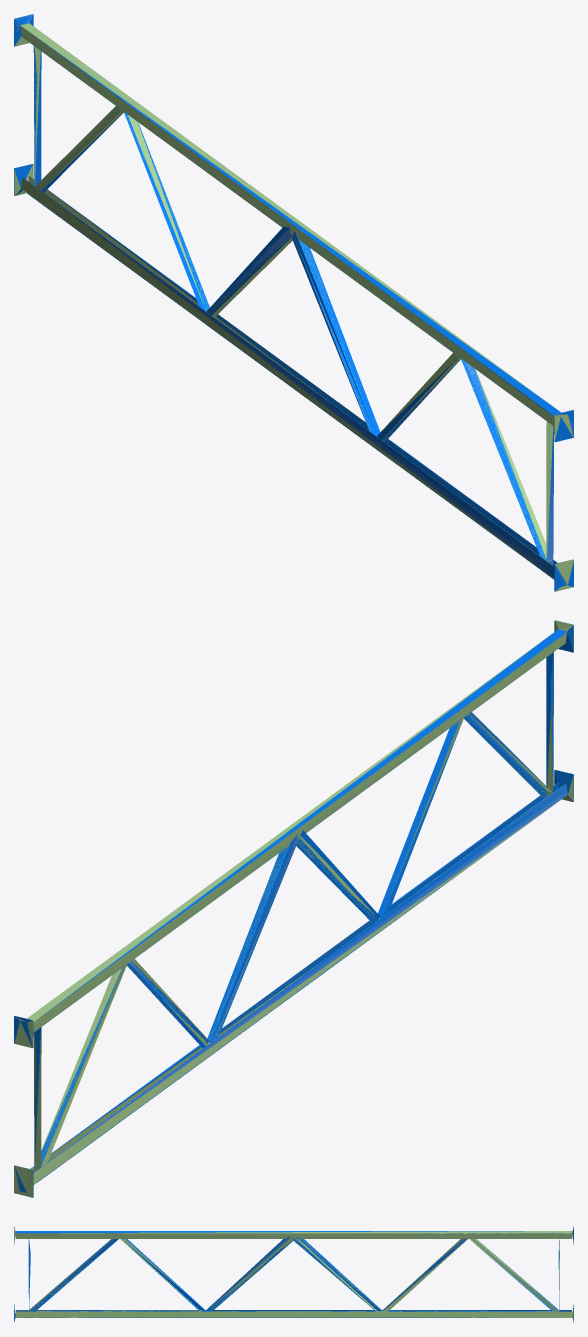
The model's file is Shelf Side Simplified.dae.
3 renders of one model, top to bottom at view 1: azimuth 30°, elevation 25°; view 2: azimuth 150°, elevation 25°; view 3: azimuth 270°, elevation 25°, orthographic. The views are drawn at different scales.
Parts seen in each view (by area): view 1: node; view 2: node; view 3: node.
Boxes of the visible parts, left/top/right/bottom form: node: left=14, top=14, right=573, bottom=591; node: left=14, top=620, right=573, bottom=1197; node: left=14, top=1226, right=573, bottom=1322.
Bounding box in the file's own units: 0.144 × 1.27 × 7.01.
1 material, 1 textured.
